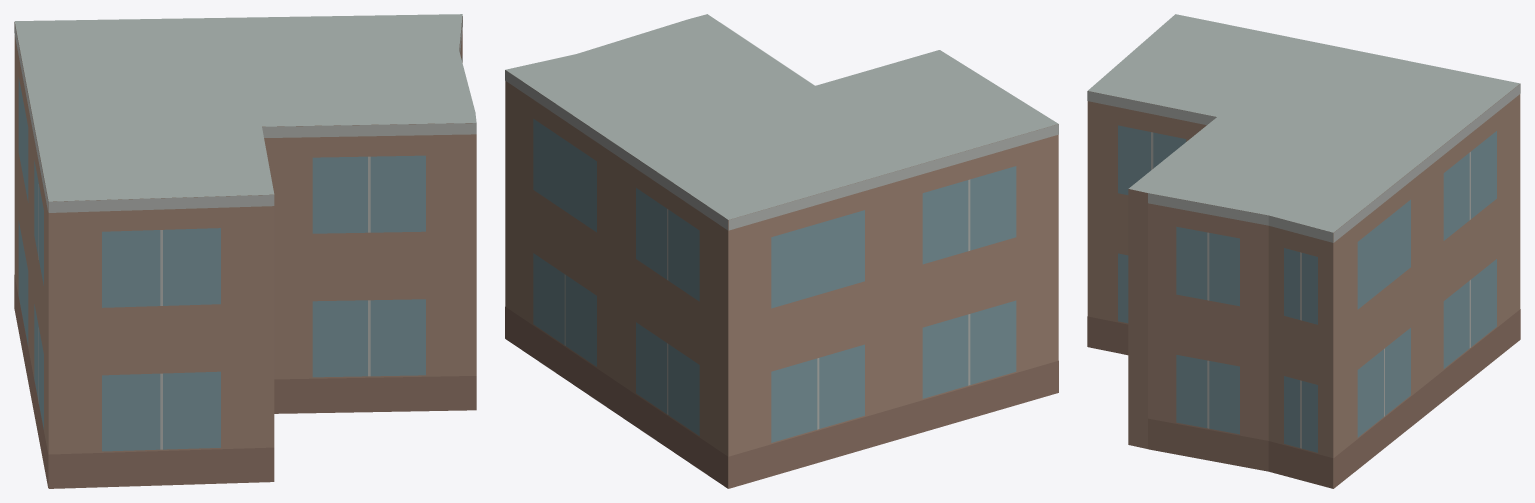
Rendered from survey-upis-32466407.glb.
The picture shows the model from 3 angles, left to right: view 1: azimuth 30°, elevation 25°; view 2: azimuth 150°, elevation 25°; view 3: azimuth 270°, elevation 25°; orthographic projection. The views are drawn at different scales.
Parts seen in each view (by area): view 1: survey-upis-32466407.tmp; view 2: survey-upis-32466407.tmp; view 3: survey-upis-32466407.tmp.
Part boxes in pixels (x1,y1,x2,y2): survey-upis-32466407.tmp: (14, 14, 476, 488); survey-upis-32466407.tmp: (505, 14, 1058, 488); survey-upis-32466407.tmp: (1087, 14, 1520, 488).
Bounding box in the file's own units: 11.18 × 6.1 × 9.36.
